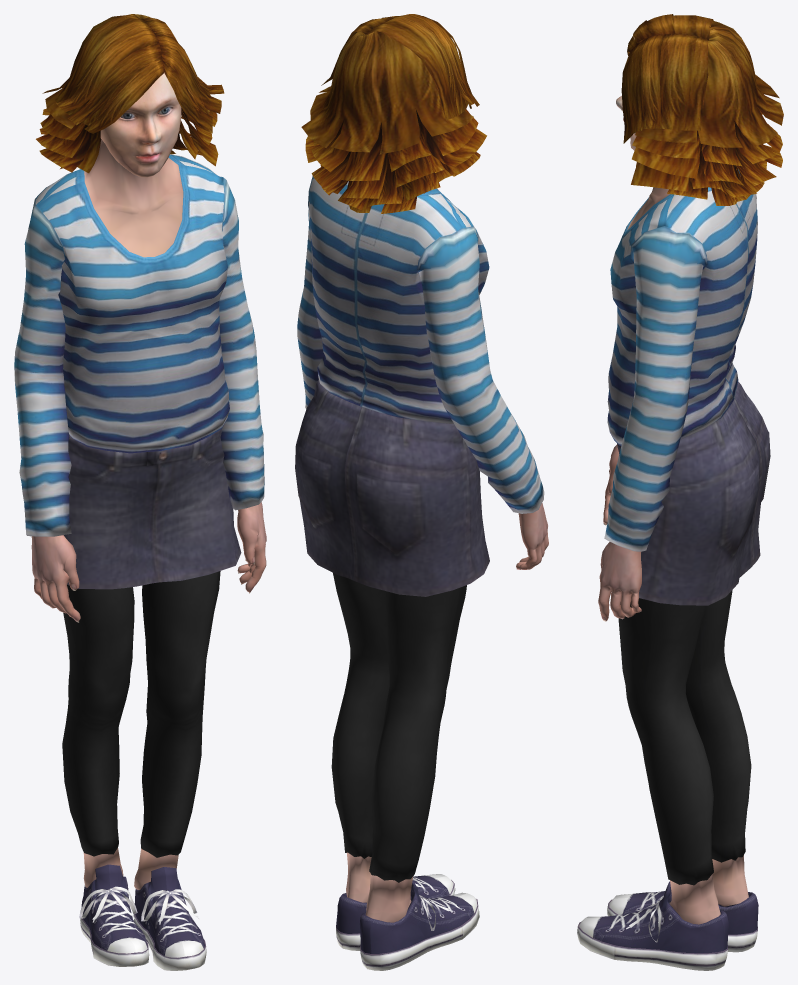
The model's file is people6.glb.
3 views of the same model, side by side, from view 1: azimuth 30°, elevation 25°; view 2: azimuth 150°, elevation 25°; view 3: azimuth 270°, elevation 25° (orthographic).
Parts seen in each view (by area): view 1: girlStanding; view 2: girlStanding; view 3: girlStanding.
Boxes of the visible parts, <box> form: girlStanding: <box>14,14,266,970</box>; girlStanding: <box>295,14,548,970</box>; girlStanding: <box>577,14,783,970</box>.
Size of the model in its own units: 0.2628 by 1 by 0.2018.
10 materials, 10 textured.
